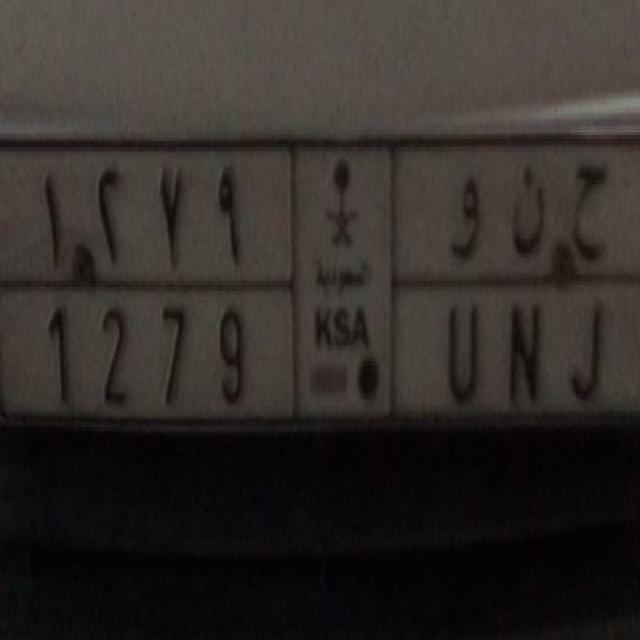license_plate: (35, 280, 612, 446)
